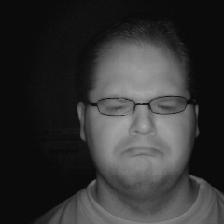sad: (61, 26, 212, 197)
